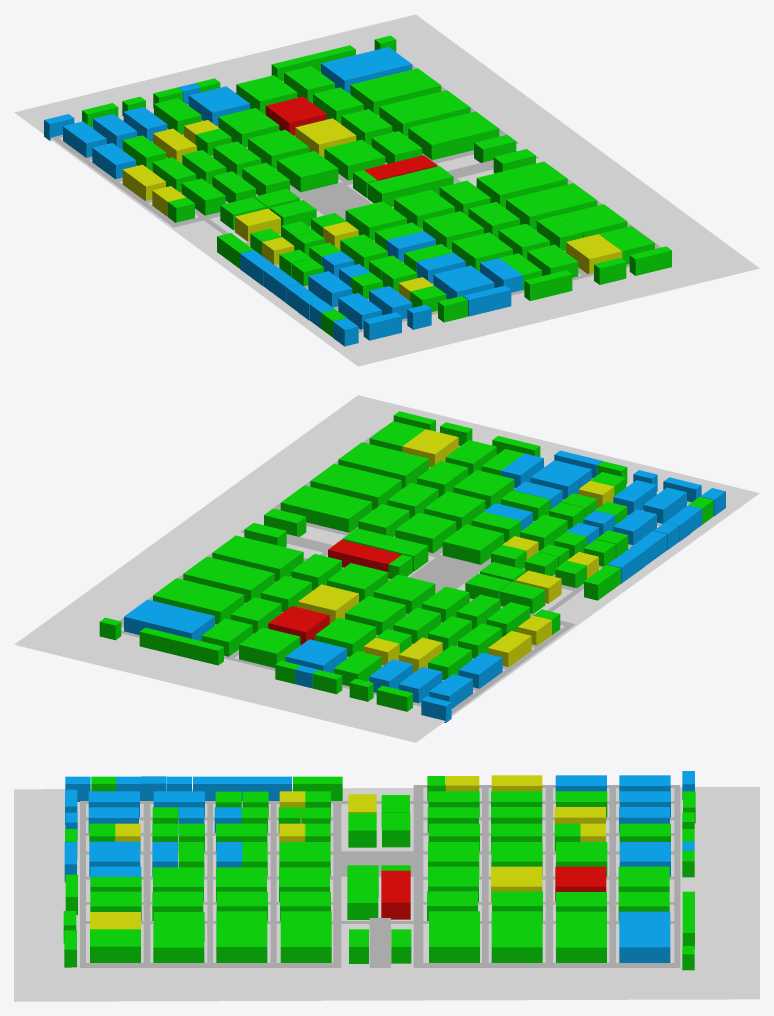
Rendered from site.glb.
3 renders of one model, top to bottom at view 1: azimuth 30°, elevation 25°; view 2: azimuth 150°, elevation 25°; view 3: azimuth 270°, elevation 25°, orthographic. The views are drawn at different scales.
Parts seen in each view (by area): view 1: Floor, NAV_MESH, B3, B5, A7, B4, B6, A6, B21, B23, B25, A21 (+64 smaller); view 2: Floor, NAV_MESH, A7, B6, B4, A6, B3, B5, B8, B25, A21, A19 (+63 smaller); view 3: Floor, NAV_MESH, A6, A7, B4, B6, B3, B5, A5, A3, B19, B23 (+105 smaller).
Boxes of the visible parts, bbox=[...] form: Floor: bbox=[14, 14, 759, 366]; NAV_MESH: bbox=[51, 65, 672, 332]; B3: bbox=[408, 111, 499, 160]; B5: bbox=[350, 68, 441, 115]; A7: bbox=[476, 161, 567, 208]; B4: bbox=[379, 90, 470, 136]; B6: bbox=[321, 47, 412, 93]; A6: bbox=[506, 183, 597, 229]; B21: bbox=[324, 139, 385, 180]; B23: bbox=[265, 96, 326, 135]; B25: bbox=[236, 75, 297, 114]; A21: bbox=[394, 189, 454, 228]; Floor: bbox=[14, 395, 759, 742]; NAV_MESH: bbox=[119, 427, 691, 713]; A7: bbox=[280, 485, 371, 532]; B6: bbox=[124, 599, 214, 640]; B4: bbox=[183, 556, 274, 602]; A6: bbox=[310, 463, 401, 510]; B3: bbox=[212, 535, 303, 581]; B5: bbox=[153, 578, 244, 624]; B8: bbox=[139, 627, 223, 665]; B25: bbox=[239, 627, 300, 667]; A21: bbox=[395, 512, 456, 553]; A19: bbox=[424, 491, 485, 530]; Floor: bbox=[14, 786, 759, 1001]; NAV_MESH: bbox=[80, 785, 680, 967]; A6: bbox=[216, 911, 267, 962]; A7: bbox=[280, 911, 331, 962]; B4: bbox=[491, 911, 542, 962]; B6: bbox=[619, 911, 670, 962]; B3: bbox=[429, 911, 479, 962]; B5: bbox=[556, 911, 606, 962]; A5: bbox=[153, 924, 204, 962]; A3: bbox=[90, 929, 140, 962]; B19: bbox=[381, 870, 410, 919]; B23: bbox=[555, 866, 606, 901].
Size of the model in its own units: 5.16 by 0.2051 by 7.65.
